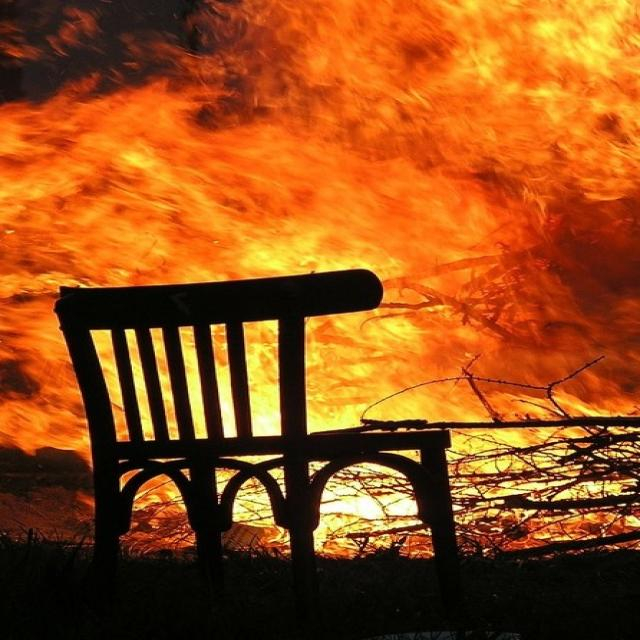fire: (288, 2, 640, 249), (4, 109, 276, 280), (323, 319, 640, 422)
